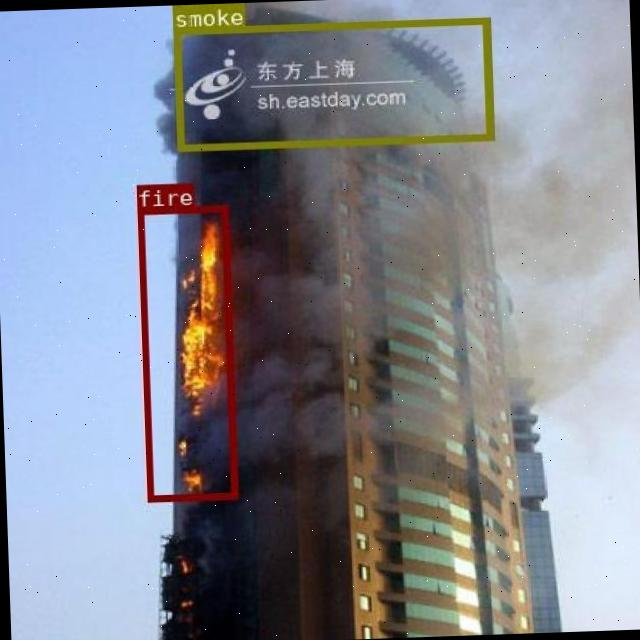fire: (135, 203, 237, 500)
smoke: (173, 16, 492, 149)
